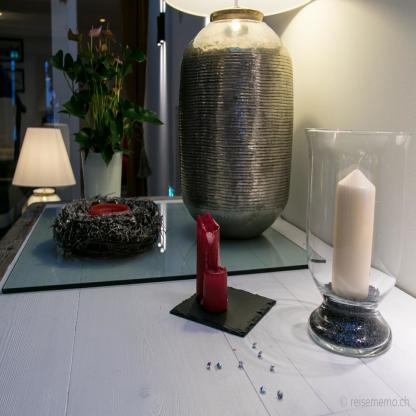vase: (82, 146, 122, 204)
